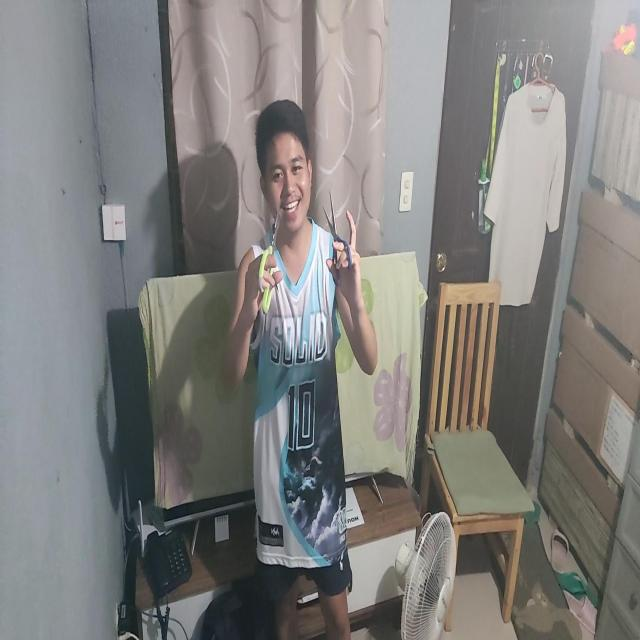scissor: (322, 189, 352, 286), (257, 210, 282, 314)
